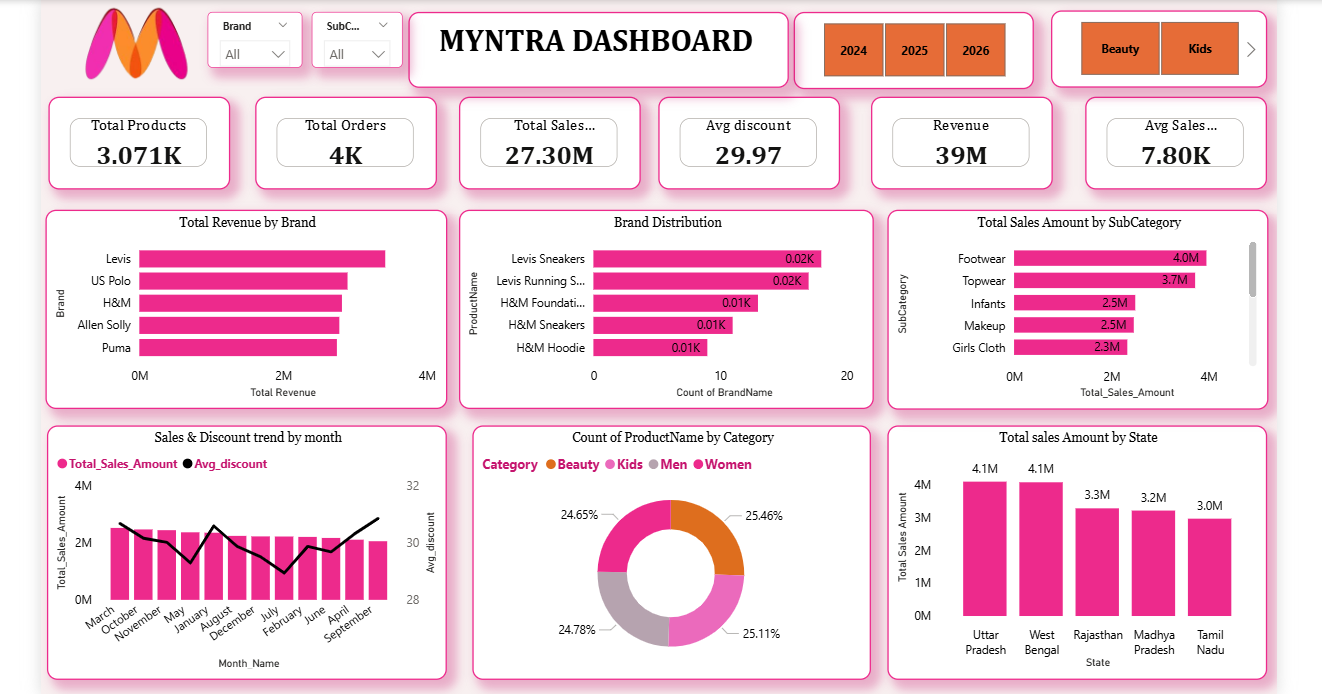

The dashboard page shown, as its layout file describes it:
{"tool":"powerbi","page":{"name":"Page 1","canvas":[1280,720],"ordinal":0},"visuals":[{"type":"barChart","fields":{"Y":["'Measures'.Revenue"],"Category":["DimProduct.BrandName"]},"box":[4.6,217.2,415.9,206.4],"z":0},{"type":"barChart","title":"Brand Distribution","fields":{"Category":["DimProduct.ProductName"],"Y":["CountNonNull(DimProduct.BrandName)"]},"box":[432.9,217.2,429.8,206.4],"z":1000},{"type":"lineClusteredColumnComboChart","title":"Sales & Discount trend by month","fields":{"Category":["DateTable.Month_Name"],"Y":["'Measures'.Total_Sales_Amount"],"Y2":["'Measures'.Avg_discount"]},"box":[6.2,440.6,414.4,263.4],"z":2000},{"type":"donutChart","fields":{"Category":["DimProduct.Category"],"Y":["CountNonNull(DimProduct.ProductName)"]},"box":[446.7,440.6,412.8,263.4],"z":3000},{"type":"columnChart","title":" Total sales Amount by State","fields":{"Category":["DimCustomer.State"],"Y":["'Measures'.Total_Sales_Amount"]},"box":[876.1,440.8,393,263.4],"z":4000},{"type":"slicer","fields":{"Values":["DateTable.Year"]},"box":[780.1,11.8,248.5,80.1],"z":5000},{"type":"cardVisual","title":"Total Product","fields":{"Data":["CountNonNull(DimProduct.ProductName)"]},"box":[7.7,100.1,188,96],"z":6000},{"type":"cardVisual","fields":{"Data":["'Measures'.Total_Sales_Amount"]},"box":[432.9,100.1,188,96],"z":7000},{"type":"cardVisual","fields":{"Data":["'Measures'.Avg_discount"]},"box":[639.3,100.1,188,96],"z":8000},{"type":"cardVisual","fields":{"Data":["'Measures'.Revenue"]},"box":[859.6,100.1,188,96],"z":9000},{"type":"cardVisual","fields":{"Data":["'Measures'.Avg_Sales_Amount"]},"box":[1081.4,100.1,188,96],"z":10000},{"type":"image","box":[5,0,188.3,90],"z":11000},{"type":"textbox","box":[380.8,11.7,394.2,78.3],"z":12000},{"type":"slicer","fields":{"Values":["DimProduct.Category"]},"box":[1046.5,11.3,223.9,80.3],"z":13000},{"type":"slicer","fields":{"Values":["DimProduct.BrandName"]},"box":[173,12,98,58],"z":14000},{"type":"slicer","fields":{"Values":["DimProduct.SubCategory"]},"box":[280,12,94,58],"z":15000},{"type":"cardVisual","fields":{"Data":["'Measures'.Total_Orders"]},"box":[221.8,100.1,188,96],"z":16000},{"type":"barChart","title":"Total Sales Amount by SubCategory","fields":{"Category":["DimProduct.SubCategory"],"Y":["'Measures'.Total_Sales_Amount"]},"box":[876.1,216.9,394.4,207],"z":17000}]}

Visuals, with their boxes on the page's 1280x720 design canvas (x1, y1, x2, y2). These are canvas units, not pixel positions in the 1322x694 screenshot, which may show the page scaled, cropped or inside an application window:
barChart - 'Measures'.Revenue x DimProduct.BrandName: 5, 217, 420, 424
"Brand Distribution" barChart: 433, 217, 863, 424
"Sales & Discount trend by month" lineClusteredColumnComboChart: 6, 441, 421, 704
donutChart - DimProduct.Category x CountNonNull(DimProduct.ProductName): 447, 441, 860, 704
" Total sales Amount by State" columnChart: 876, 441, 1269, 704
slicer - DateTable.Year: 780, 12, 1029, 92
"Total Product" cardVisual: 8, 100, 196, 196
cardVisual - 'Measures'.Total_Sales_Amount: 433, 100, 621, 196
cardVisual - 'Measures'.Avg_discount: 639, 100, 827, 196
cardVisual - 'Measures'.Revenue: 860, 100, 1048, 196
cardVisual - 'Measures'.Avg_Sales_Amount: 1081, 100, 1269, 196
image: 5, 0, 193, 90
textbox: 381, 12, 775, 90
slicer - DimProduct.Category: 1046, 11, 1270, 92
slicer - DimProduct.BrandName: 173, 12, 271, 70
slicer - DimProduct.SubCategory: 280, 12, 374, 70
cardVisual - 'Measures'.Total_Orders: 222, 100, 410, 196
"Total Sales Amount by SubCategory" barChart: 876, 217, 1270, 424
